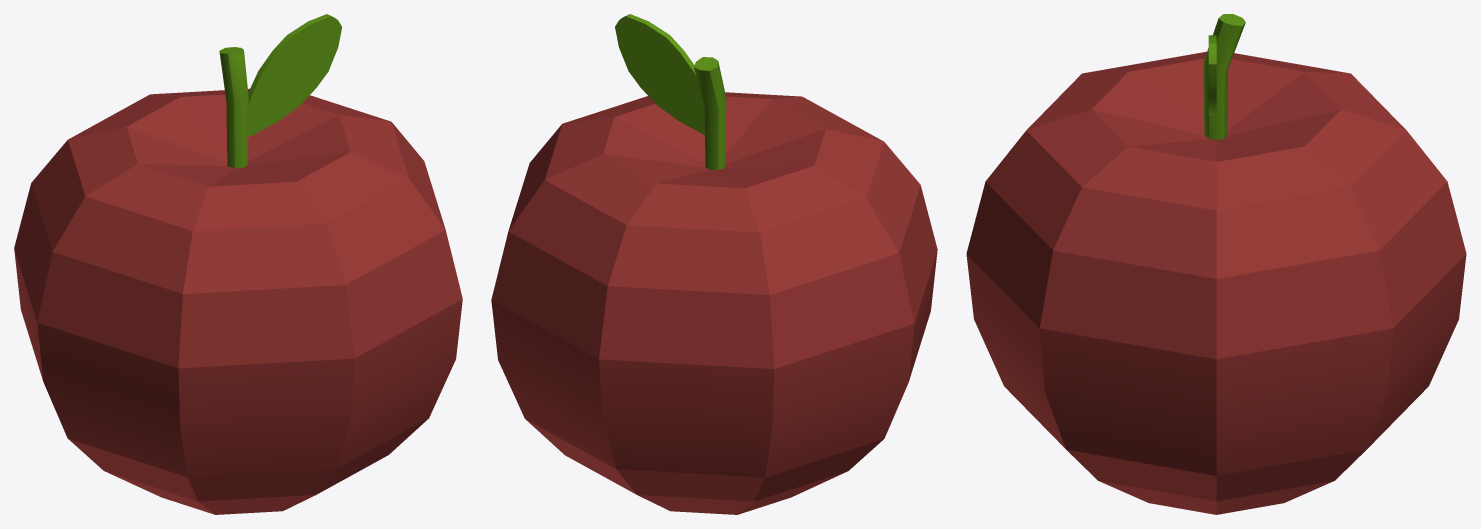
File: apple.fbx
3 views of the same model, side by side, from view 1: azimuth 30°, elevation 25°; view 2: azimuth 150°, elevation 25°; view 3: azimuth 270°, elevation 25° (orthographic). The views are drawn at different scales.
Visible parts, largest first — view 1: pasted__pasted__pasted__pasted__pSphere3; view 2: pasted__pasted__pasted__pasted__pSphere3; view 3: pasted__pasted__pasted__pasted__pSphere3.
Boxes of the visible parts, bbox=[...] form: pasted__pasted__pasted__pasted__pSphere3: bbox=[14, 14, 462, 514]; pasted__pasted__pasted__pasted__pSphere3: bbox=[491, 14, 937, 514]; pasted__pasted__pasted__pasted__pSphere3: bbox=[966, 14, 1466, 514].
Bounding box in the file's own units: 0.2283 × 0.2403 × 0.2283.
